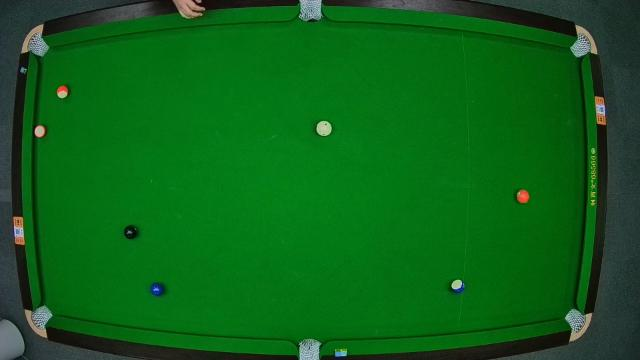bag1: (28, 34, 46, 54)
bag2: (298, 0, 324, 22)
bag3: (573, 37, 593, 57)
bag4: (32, 308, 50, 326)
bag5: (297, 342, 323, 360)
bag6: (566, 310, 586, 332)
ball0: (316, 121, 332, 138)
ball10: (451, 278, 467, 294)
ball12: (34, 124, 46, 140)
ball13: (56, 84, 70, 100)
ball2: (150, 282, 167, 298)
ball5: (516, 188, 530, 204)
ball8: (122, 224, 140, 241)
